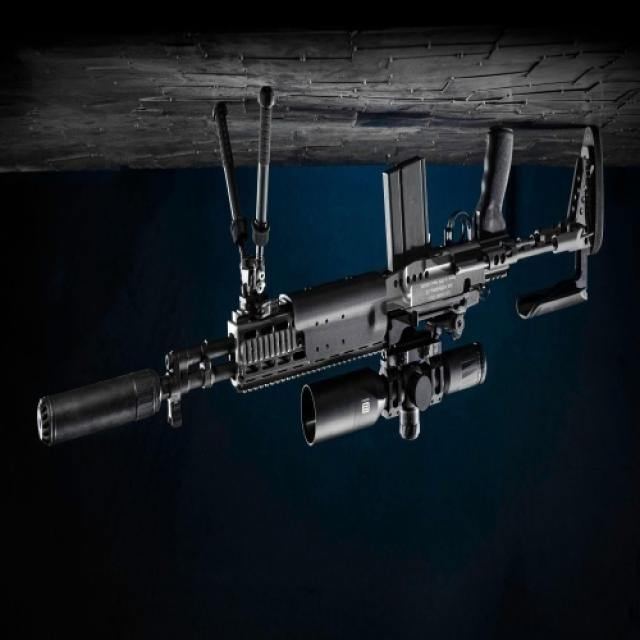Gun: (1, 92, 606, 453)
